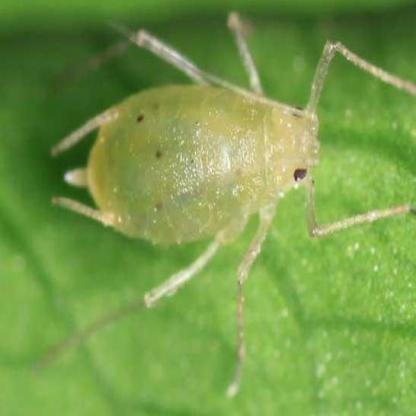aphid: (67, 20, 416, 367)
